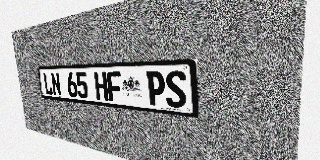5: (75, 72, 89, 99)
6: (66, 72, 78, 98)
F: (107, 71, 122, 102)
H: (94, 72, 109, 101)
L: (43, 72, 53, 95)
N: (51, 72, 62, 96)
P: (146, 71, 166, 106)
S: (165, 70, 187, 109)
